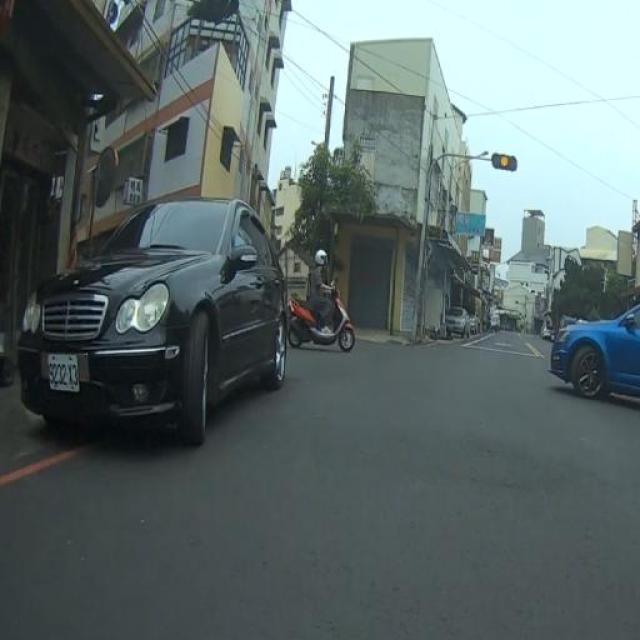illegalparking: (4, 168, 306, 481)
